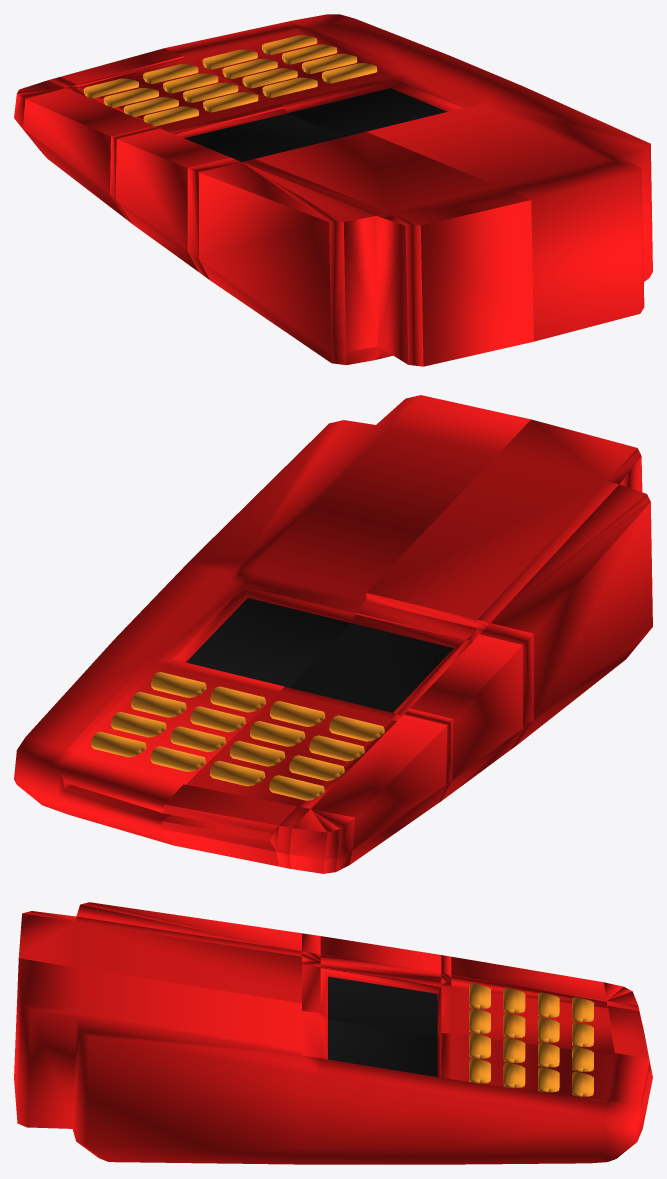
Rendered from POS Terminal.fbx.
3 renders of one model, top to bottom at view 1: azimuth 30°, elevation 25°; view 2: azimuth 150°, elevation 25°; view 3: azimuth 270°, elevation 25°, orthographic. The views are drawn at different scales.
Parts seen in each view (by area): view 1: Node 0; view 2: Node 0; view 3: Node 0.
Part boxes in pixels (x1,y1,x2,y2): Node 0: (14,14,652,366); Node 0: (14,395,652,873); Node 0: (14,902,652,1164).
Bounding box in the file's own units: 0.2057 × 0.0505 × 0.1074.
